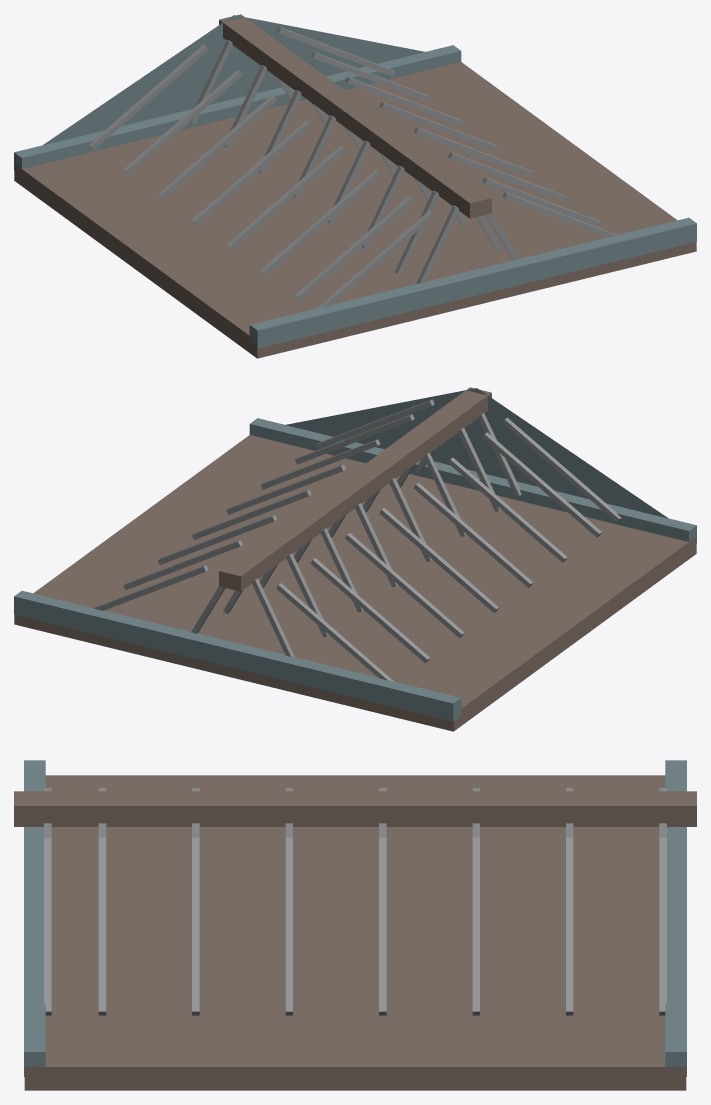
Rendered from telhado_teal_4m.glb.
3 renders of one model, top to bottom at view 1: azimuth 30°, elevation 25°; view 2: azimuth 150°, elevation 25°; view 3: azimuth 270°, elevation 25°, orthographic. The views are drawn at different scales.
Parts seen in each view (by area): view 1: telhado_teal_4m_part_001, telhado_teal_4m_part_036, telhado_teal_4m_part_000, telhado_teal_4m_part_034, telhado_teal_4m_part_035, telhado_teal_4m_part_010, telhado_teal_4m_part_006, telhado_teal_4m_part_018, telhado_teal_4m_part_022, telhado_teal_4m_part_014, telhado_teal_4m_part_026, telhado_teal_4m_part_002 (+17 smaller); view 2: telhado_teal_4m_part_001, telhado_teal_4m_part_035, telhado_teal_4m_part_000, telhado_teal_4m_part_034, telhado_teal_4m_part_036, telhado_teal_4m_part_006, telhado_teal_4m_part_026, telhado_teal_4m_part_018, telhado_teal_4m_part_022, telhado_teal_4m_part_014, telhado_teal_4m_part_010, telhado_teal_4m_part_030 (+17 smaller); view 3: telhado_teal_4m_part_001, telhado_teal_4m_part_034, telhado_teal_4m_part_036, telhado_teal_4m_part_035, telhado_teal_4m_part_029, telhado_teal_4m_part_017, telhado_teal_4m_part_025, telhado_teal_4m_part_009, telhado_teal_4m_part_013, telhado_teal_4m_part_021, telhado_teal_4m_part_005, telhado_teal_4m_part_033.
Boxes of the visible parts, x1,y1,x2,y2 form: telhado_teal_4m_part_001: (14, 62, 696, 358); telhado_teal_4m_part_036: (249, 217, 696, 348); telhado_teal_4m_part_000: (42, 15, 424, 145); telhado_teal_4m_part_034: (219, 14, 491, 218); telhado_teal_4m_part_035: (14, 45, 461, 175); telhado_teal_4m_part_010: (157, 95, 277, 200); telhado_teal_4m_part_006: (123, 70, 242, 174); telhado_teal_4m_part_018: (226, 145, 345, 250); telhado_teal_4m_part_022: (260, 170, 380, 275); telhado_teal_4m_part_014: (192, 120, 311, 224); telhado_teal_4m_part_026: (295, 195, 414, 300); telhado_teal_4m_part_002: (89, 44, 208, 149); telhado_teal_4m_part_001: (14, 435, 696, 731); telhado_teal_4m_part_035: (14, 590, 461, 721); telhado_teal_4m_part_000: (286, 388, 668, 518); telhado_teal_4m_part_034: (219, 387, 491, 591); telhado_teal_4m_part_036: (249, 418, 696, 548); telhado_teal_4m_part_006: (310, 558, 429, 663); telhado_teal_4m_part_026: (482, 432, 601, 537); telhado_teal_4m_part_018: (413, 482, 533, 587); telhado_teal_4m_part_022: (448, 457, 567, 562); telhado_teal_4m_part_014: (379, 507, 498, 612); telhado_teal_4m_part_010: (345, 533, 464, 637); telhado_teal_4m_part_030: (502, 417, 621, 522); telhado_teal_4m_part_001: (24, 775, 686, 1090); telhado_teal_4m_part_034: (14, 791, 696, 826); telhado_teal_4m_part_036: (24, 760, 45, 1076); telhado_teal_4m_part_035: (665, 760, 686, 1076); telhado_teal_4m_part_029: (98, 837, 106, 1015); telhado_teal_4m_part_017: (379, 837, 386, 1015); telhado_teal_4m_part_025: (192, 837, 199, 1015); telhado_teal_4m_part_009: (566, 837, 573, 1015); telhado_teal_4m_part_013: (472, 837, 479, 1015); telhado_teal_4m_part_021: (285, 837, 292, 1015); telhado_teal_4m_part_005: (659, 837, 666, 1015); telhado_teal_4m_part_033: (44, 837, 51, 1015).
Bounding box in the file's own units: 4.8 × 1.17 × 4.75.
